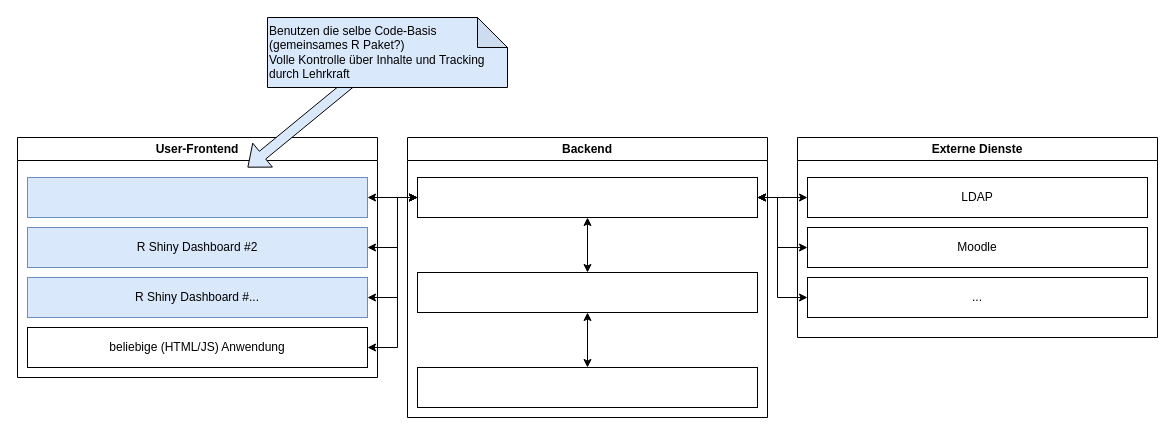
This 1175x435 diagram has some shape labels left out. The shapes that lost their labels are listed below. From the top down, each one's centre as x and y in pixels, then its label:
the point at 197,197: R Shiny Dashboard #1
the point at 587,197: Web API
the point at 587,292: Datenbank
the point at 587,387: Admin-Interface
